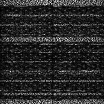lte: (1, 36, 104, 42), (1, 98, 104, 104), (1, 1, 104, 6), (1, 79, 104, 83), (1, 92, 104, 96), (1, 13, 104, 17)
